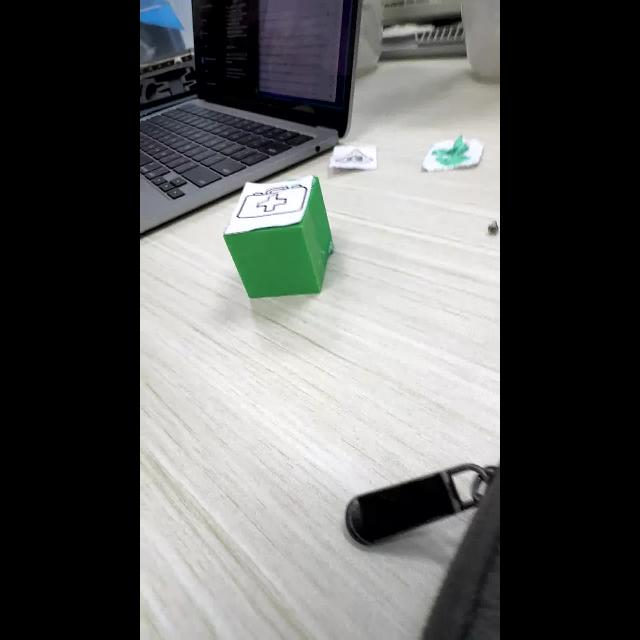Medkit: (236, 187, 293, 219), (294, 186, 307, 205)
